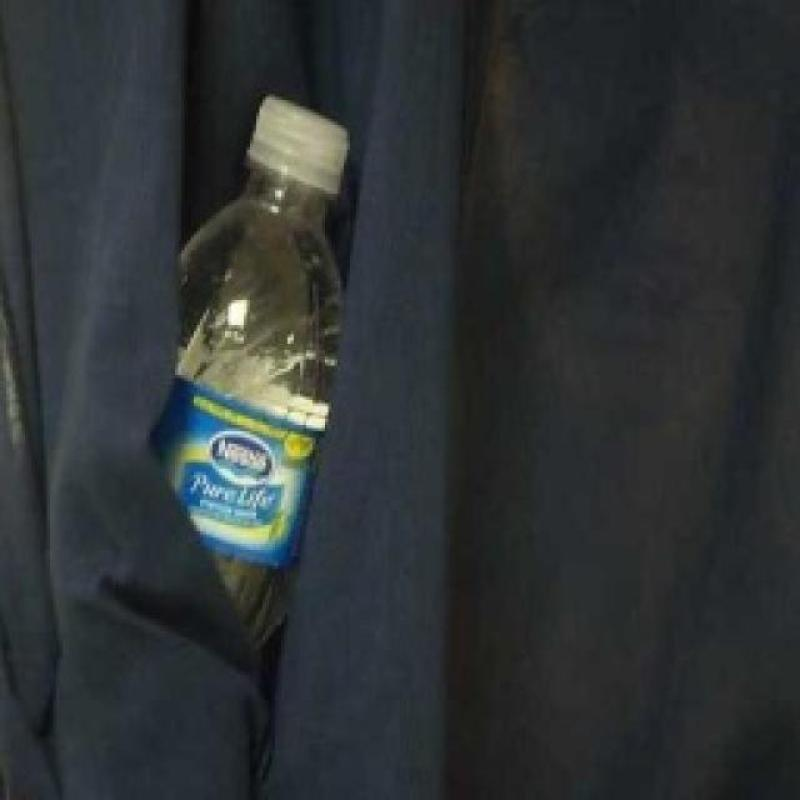botella: (154, 93, 352, 655)
